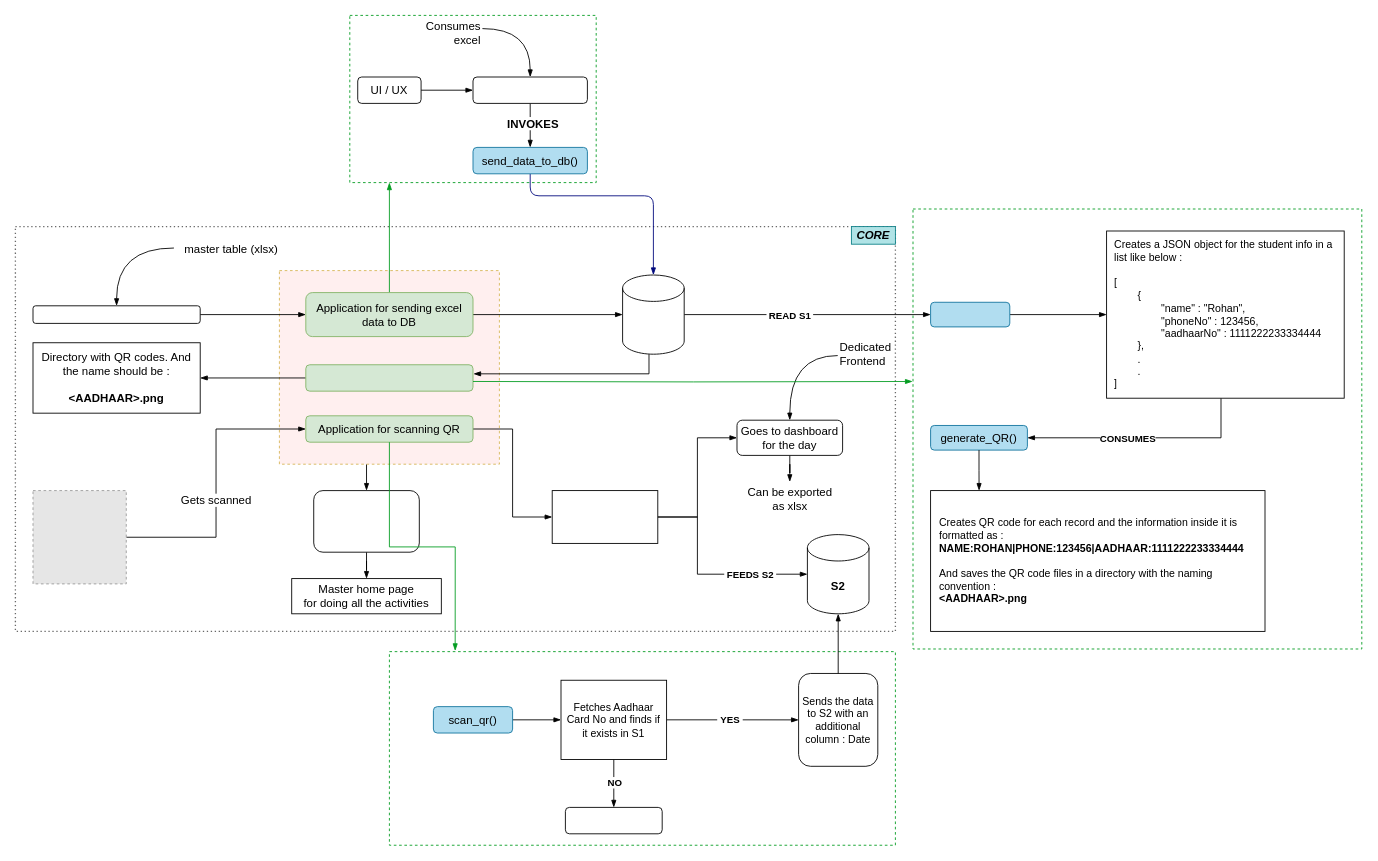
Image size: 1378x861. Some labels were removed from this diagram. Grey dashed boxes stand in for pictures. Here are the shapes that lost their labels. From the top down, the box of each, then its label:
(472, 76, 587, 103): input element (t : file)
(32, 305, 200, 323): Name | Phone | Aadhaar
(622, 274, 684, 354): S1
(930, 301, 1010, 327): get_info()
(305, 364, 473, 391): QR generator
(313, 490, 419, 552): Python Flask Application to bind all the things together
(551, 490, 658, 543): keep exporting attendance in a CSV sheet
(565, 807, 662, 834): Throws error on screen
